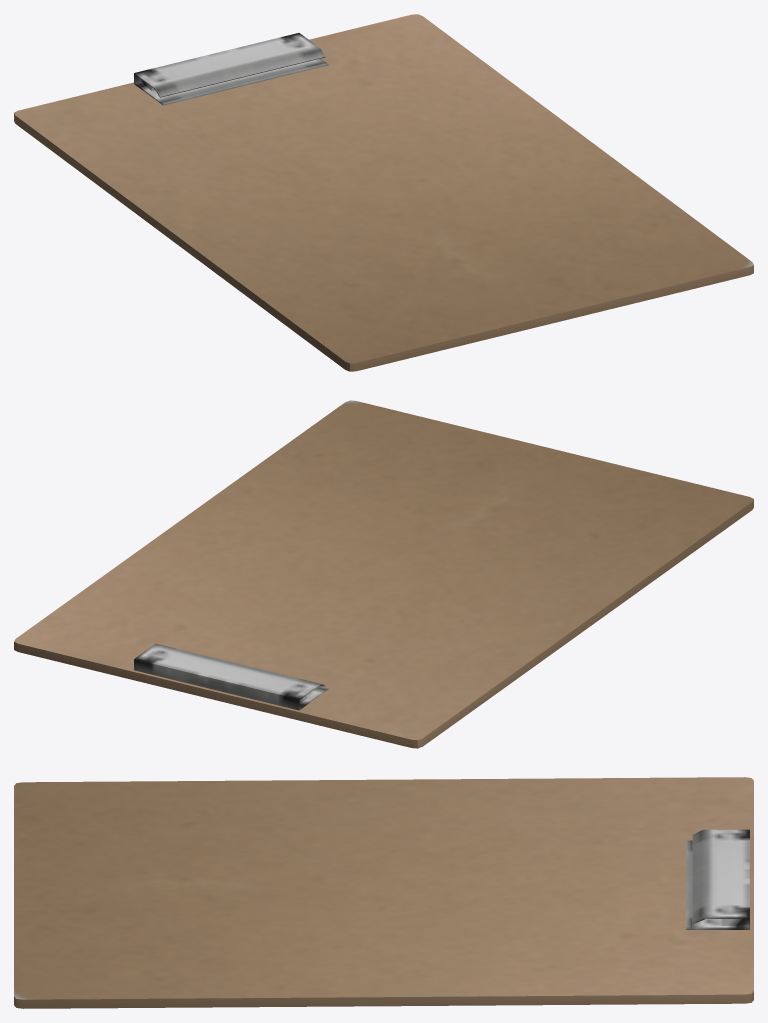
The model's file is ClipBoard.FBX.
3 renders of one model, top to bottom at view 1: azimuth 30°, elevation 25°; view 2: azimuth 150°, elevation 25°; view 3: azimuth 270°, elevation 25°, orthographic. The views are drawn at different scales.
Parts seen in each view (by area): view 1: ClipBoard; view 2: ClipBoard; view 3: ClipBoard.
Part boxes in pixels (bbox=[...]): ClipBoard: bbox=[14, 14, 753, 371]; ClipBoard: bbox=[14, 400, 753, 748]; ClipBoard: bbox=[14, 777, 753, 1008].
Bounding box in the file's own units: 23.43 × 1.33 × 33.7.
